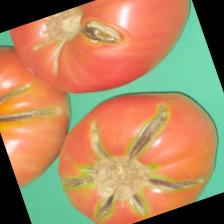tomato: (39, 67, 224, 224), (5, 0, 210, 115), (0, 23, 93, 187)
